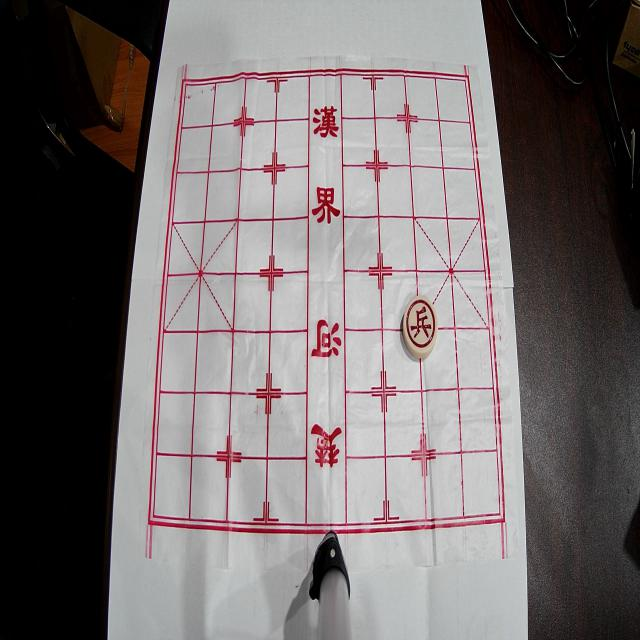red-soldier: (402, 296, 438, 358)
